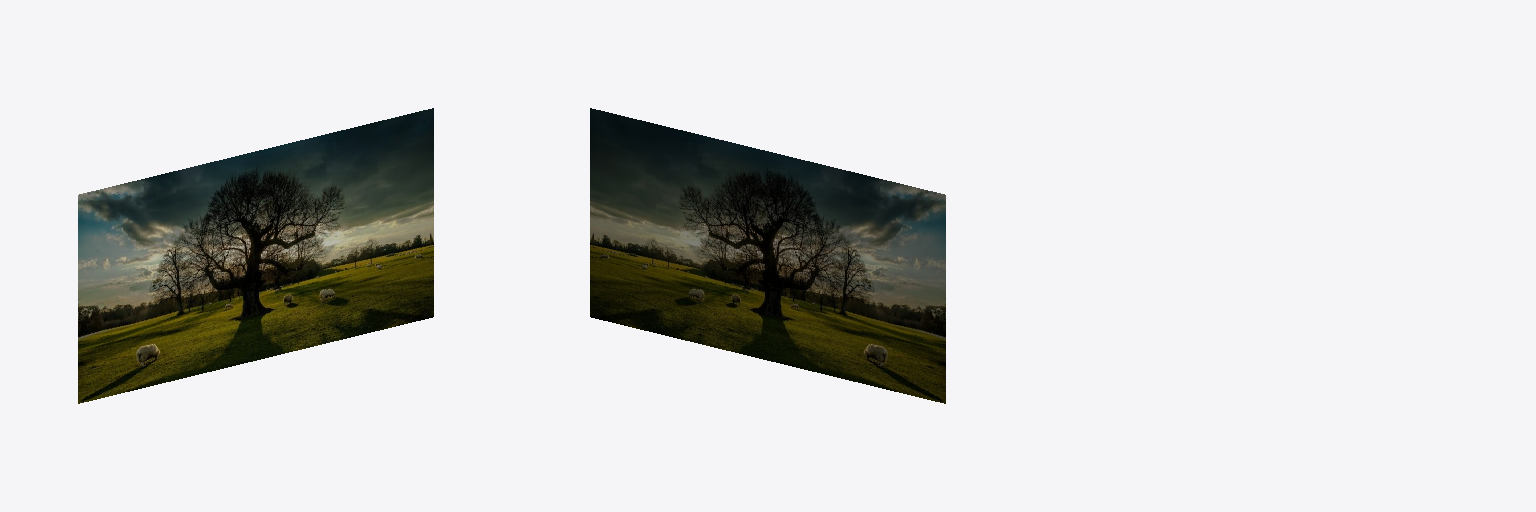
3 views of the same model, side by side, from view 1: azimuth 30°, elevation 25°; view 2: azimuth 150°, elevation 25°; view 3: azimuth 270°, elevation 25° (orthographic).
Parts seen in each view (by area): view 1: Mesh1 Model; view 2: Mesh1 Model; view 3: none.
Part boxes in pixels (x1,y1,x2,y2): Mesh1 Model: (78, 108, 433, 403); Mesh1 Model: (590, 108, 945, 403).
Bounding box in the file's own units: 3.51 × 1.97 × 0.
Materials: 1 (1 with a texture image).